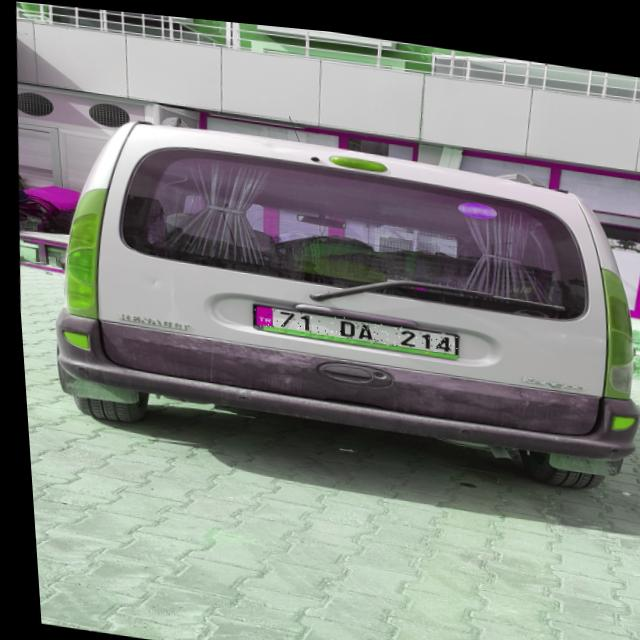plate: (247, 299, 454, 348)
